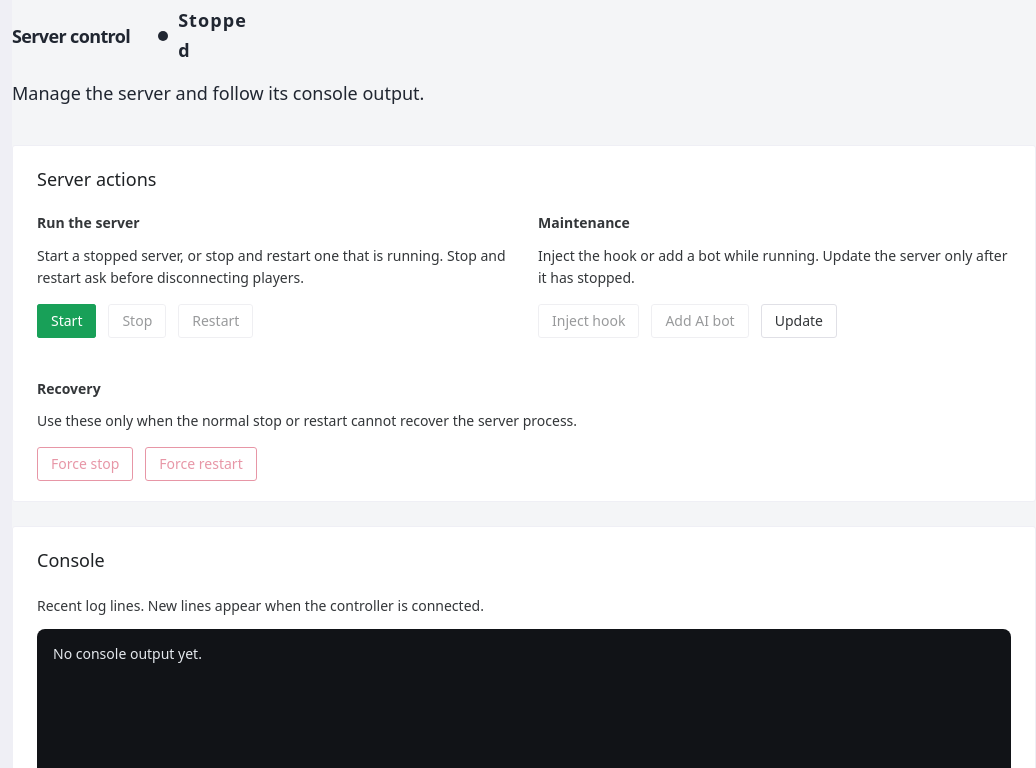
Test case: ServerControlView › says when an action got no answer
What coordinates should you click on to do the following:
click the button "Start"
I would click on:
 (67, 320)
Its box is [37,304,96,338].
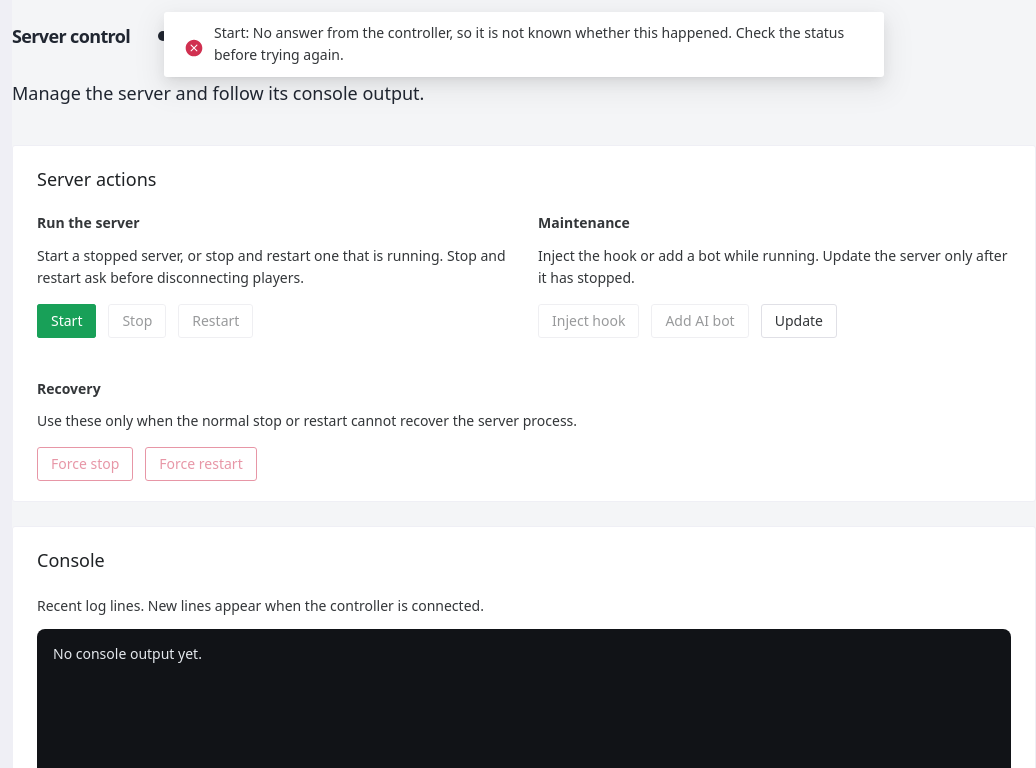
Now the text "it is not known whether this happened" is shown, box [214,23,844,64]
